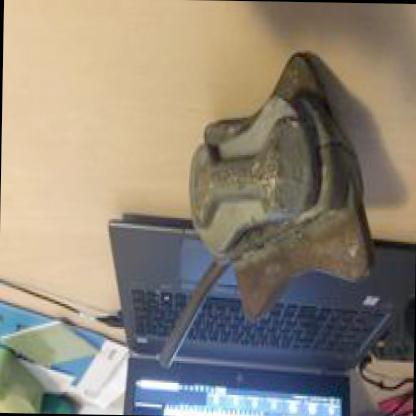Twistlock: (160, 46, 372, 380)
